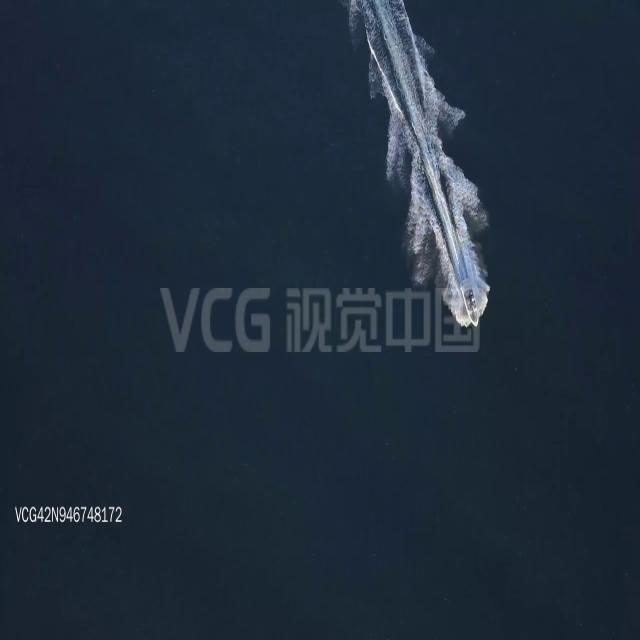houseboat: (458, 273, 482, 329)
